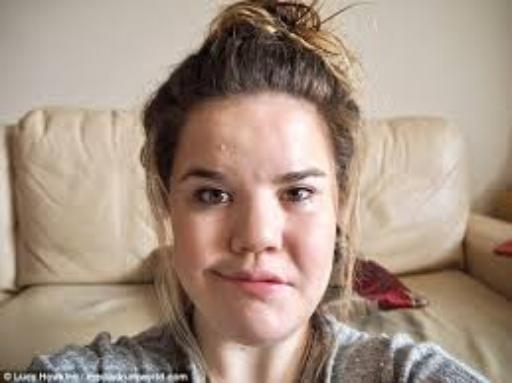left_eye: (278, 186, 322, 206)
left_lip_corner: (276, 276, 294, 291)
right_eye: (188, 188, 236, 209)
right_lip_corner: (207, 268, 230, 286)
